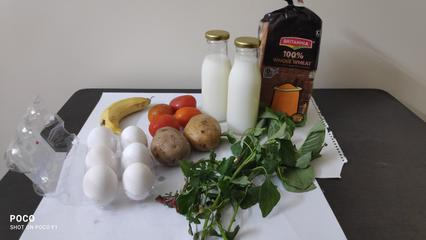banana: (106, 92, 149, 122)
bread: (260, 8, 319, 115)
eggs: (83, 127, 156, 204)
milk: (203, 27, 262, 126)
potato: (153, 123, 227, 161)
spinach: (174, 109, 317, 230)
tomato: (147, 96, 204, 127)
